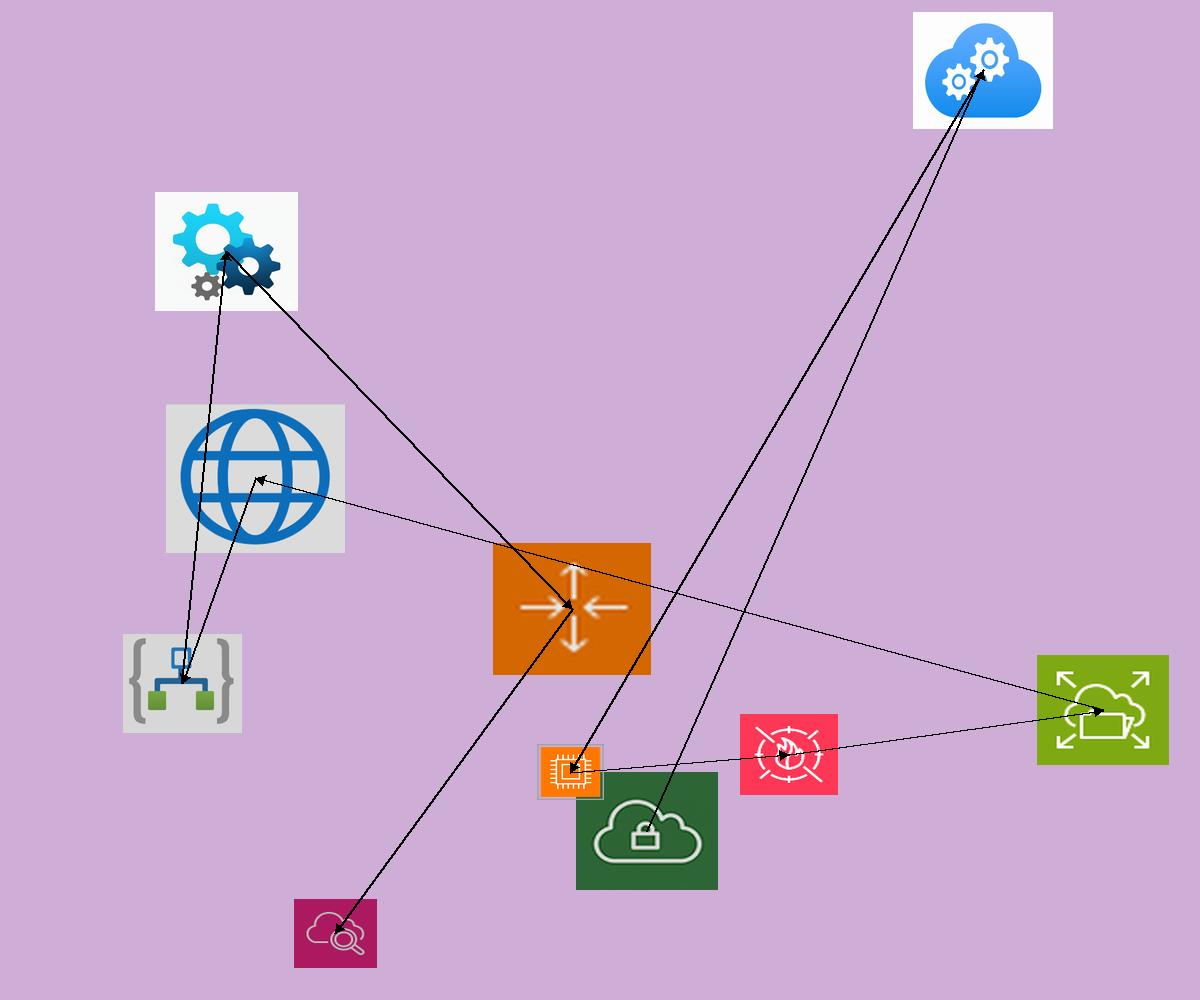AWS-Category_Compute: (537, 744, 604, 800)
AWS-CloudWatch: (294, 899, 377, 968)
AWS-EFS: (1037, 655, 1169, 765)
AWS-Private_vpc: (576, 772, 718, 890)
AWS-Scaling-group: (493, 543, 651, 675)
AWS-WAF: (740, 714, 838, 795)
Azure_api: (155, 192, 298, 311)
Azure_cloud_services: (913, 12, 1053, 129)
Azure_http: (166, 404, 345, 553)
Azure_integration-204-Logic-Apps: (123, 634, 242, 733)
